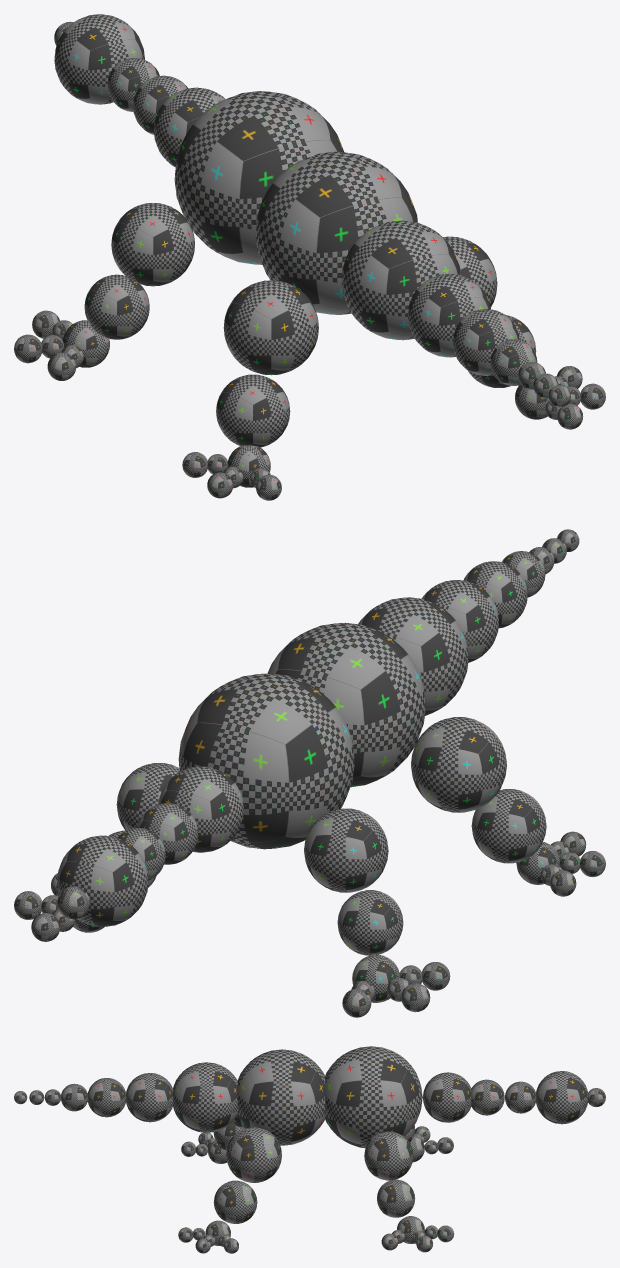
File: gecko.glb
3 views of the same model, one above another, from view 1: azimuth 30°, elevation 25°; view 2: azimuth 150°, elevation 25°; view 3: azimuth 270°, elevation 25° (orthographic). The views are drawn at different scales.
Visible parts, largest first — view 1: chest, hips, Cube.006, Cube.016, Cube.020, head, Cube.007, Cube.015, Cube.019, Cube.008, Cube.003, Cube.014 (+9 smaller); view 2: chest, hips, Cube.016, Cube.006, head, Cube.020, Cube.003, Cube.015, Cube.019, Cube.007, Cube.008, Cube.018 (+11 smaller); view 3: chest, hips, Cube.006, Cube.014, head, Cube.003, Cube.018, Cube.007, Cube.013, Cube.008, Cube.017, Cube.002 (+6 smaller).
Part boxes in pixels (x1=…): chest: x1=174, y1=91, x2=343, y2=264; hips: x1=255, y1=151, x2=417, y2=314; Cube.006: x1=341, y1=220, x2=460, y2=340; Cube.016: x1=223, y1=280, x2=318, y2=375; Cube.020: x1=111, y1=203, x2=194, y2=286; head: x1=54, y1=14, x2=144, y2=104; Cube.007: x1=407, y1=273, x2=490, y2=357; Cube.015: x1=216, y1=374, x2=290, y2=447; Cube.019: x1=84, y1=274, x2=149, y2=339; Cube.008: x1=453, y1=309, x2=519, y2=375; Cube.003: x1=154, y1=87, x2=225, y2=167; Cube.014: x1=443, y1=236, x2=497, y2=307; chest: x1=178, y1=673, x2=354, y2=849; hips: x1=268, y1=622, x2=425, y2=787; Cube.016: x1=411, y1=717, x2=506, y2=812; Cube.006: x1=358, y1=597, x2=468, y2=715; head: x1=57, y1=835, x2=148, y2=926; Cube.020: x1=304, y1=808, x2=388, y2=892; Cube.003: x1=158, y1=766, x2=243, y2=852; Cube.015: x1=471, y1=789, x2=546, y2=863; Cube.019: x1=337, y1=890, x2=403, y2=955; Cube.007: x1=422, y1=580, x2=498, y2=662; Cube.008: x1=463, y1=561, x2=527, y2=628; Cube.018: x1=116, y1=763, x2=179, y2=830; chest: x1=325, y1=1046, x2=422, y2=1148; hips: x1=237, y1=1049, x2=325, y2=1145; Cube.006: x1=173, y1=1062, x2=237, y2=1132; Cube.014: x1=226, y1=1127, x2=281, y2=1182; head: x1=536, y1=1071, x2=587, y2=1124; Cube.003: x1=422, y1=1072, x2=471, y2=1122; Cube.018: x1=364, y1=1131, x2=413, y2=1180; Cube.007: x1=126, y1=1073, x2=172, y2=1122; Cube.013: x1=213, y1=1180, x2=257, y2=1223; Cube.008: x1=87, y1=1078, x2=125, y2=1117; Cube.017: x1=377, y1=1179, x2=415, y2=1217; Cube.002: x1=471, y1=1079, x2=504, y2=1115.
Bounding box in the file's own units: 10.21 × 6.23 × 21.94.
Materials: 1 (1 with a texture image).
